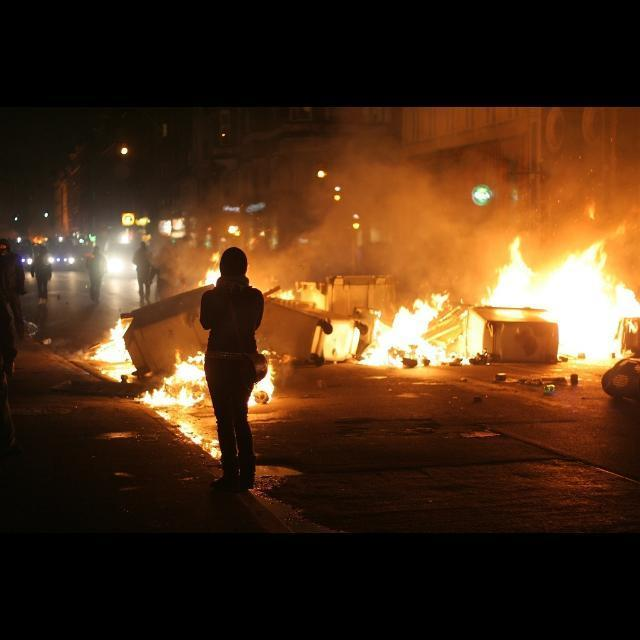Fire: (357, 236, 639, 370), (88, 318, 222, 460), (249, 360, 275, 408), (197, 250, 221, 286), (278, 290, 296, 300)
Smoke: (154, 125, 640, 308)
